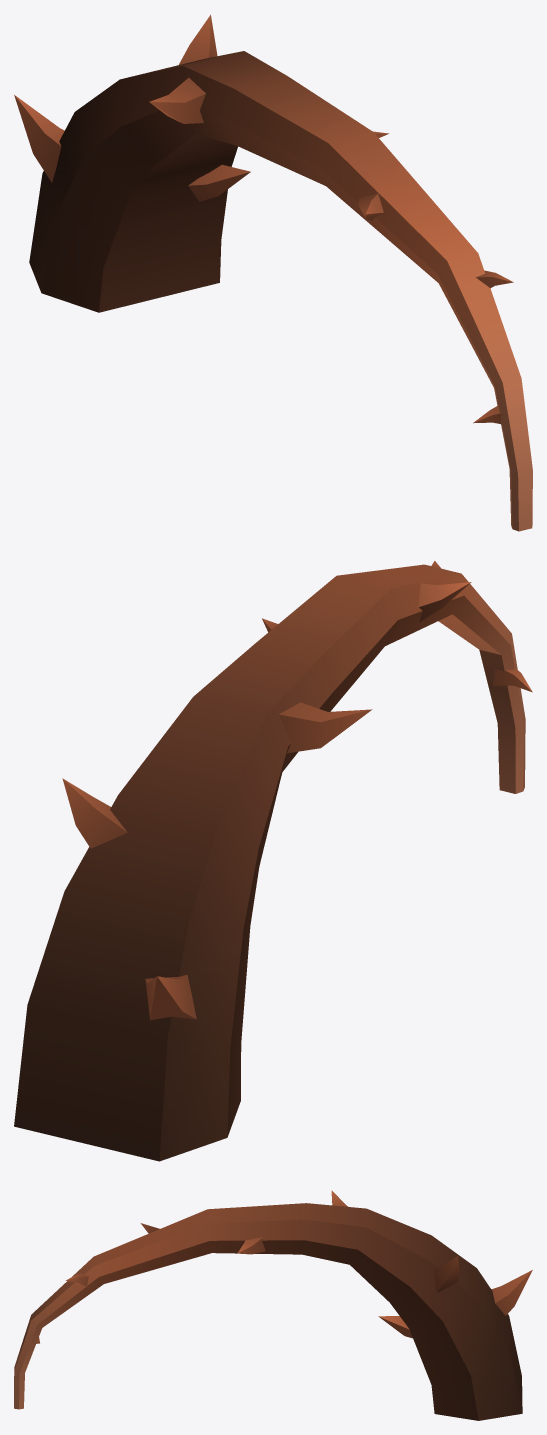
Rendered from Thorn_A_5.fbx.
The picture shows the model from 3 angles, top to bottom: view 1: azimuth 30°, elevation 25°; view 2: azimuth 150°, elevation 25°; view 3: azimuth 270°, elevation 25°; orthographic projection. The views are drawn at different scales.
Parts seen in each view (by area): view 1: Thorn_A_5; view 2: Thorn_A_5; view 3: Thorn_A_5.
Part boxes in pixels (x1,y1,x2,y2): Thorn_A_5: (14,14,532,531); Thorn_A_5: (14,561,532,1161); Thorn_A_5: (14,1190,532,1420).
Size of the model in its own units: 15.75 by 24.92 by 63.68.
